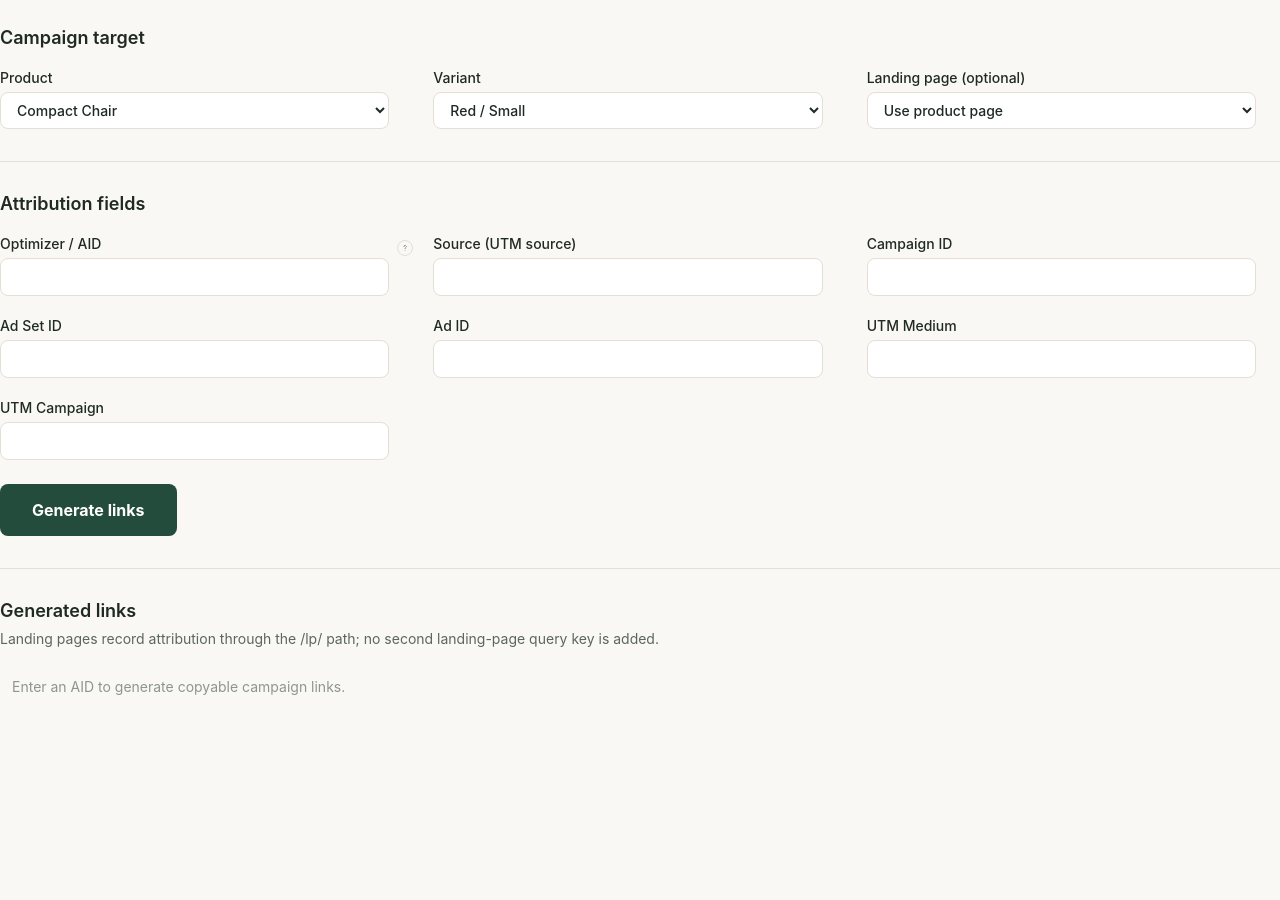
Test case: CampaignLinkBuilder › uses the selected real landing page as the campaign base
Select "Compact Chair for Condos · /lp/compact-chair-red" in the dropdown labelled "Landing page (optional)": {"x": 1061, "y": 110} [867, 92, 1256, 129]
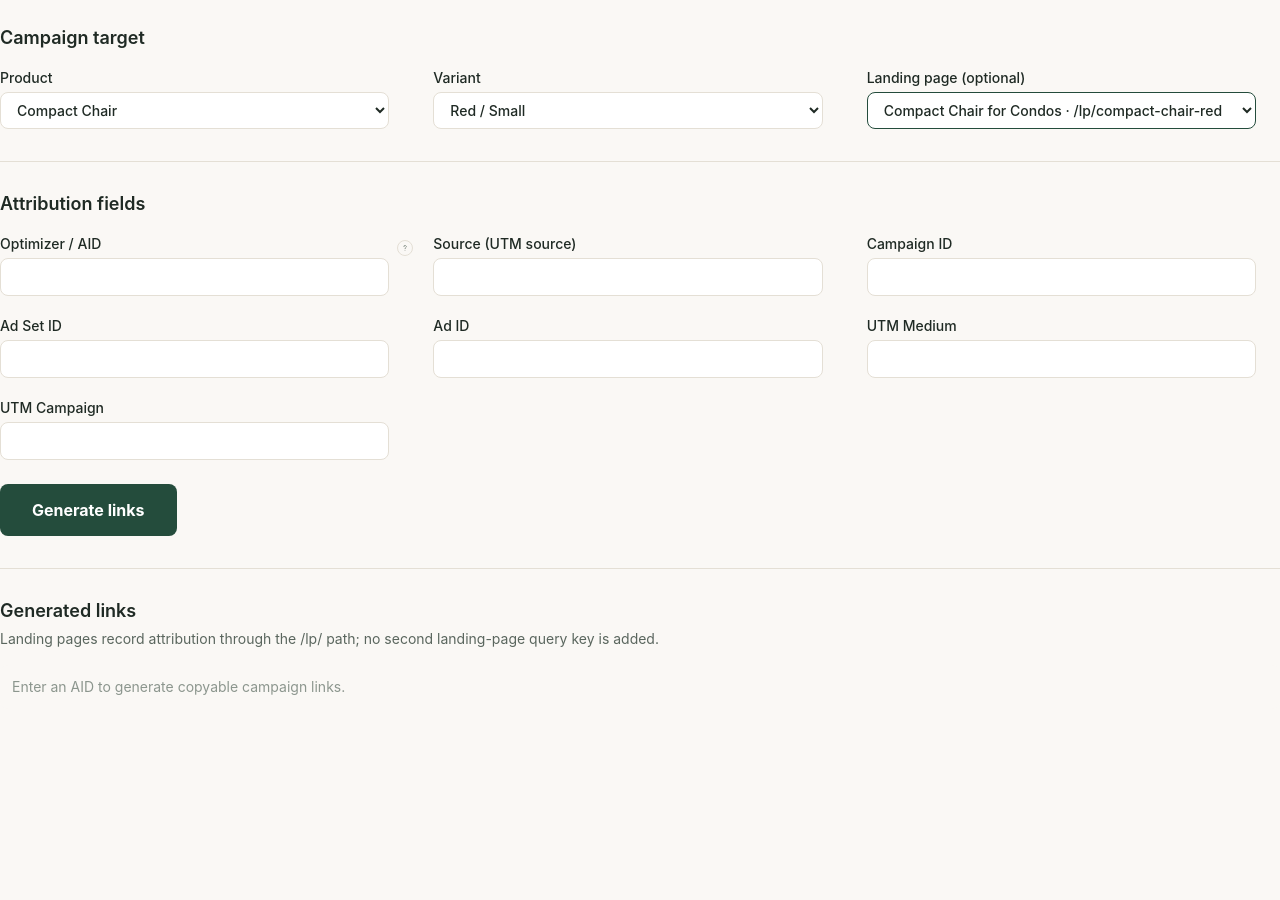
In the field labelled "Optimizer / AID": {"x": 195, "y": 277} [0, 258, 389, 296], type "optimizer-a"
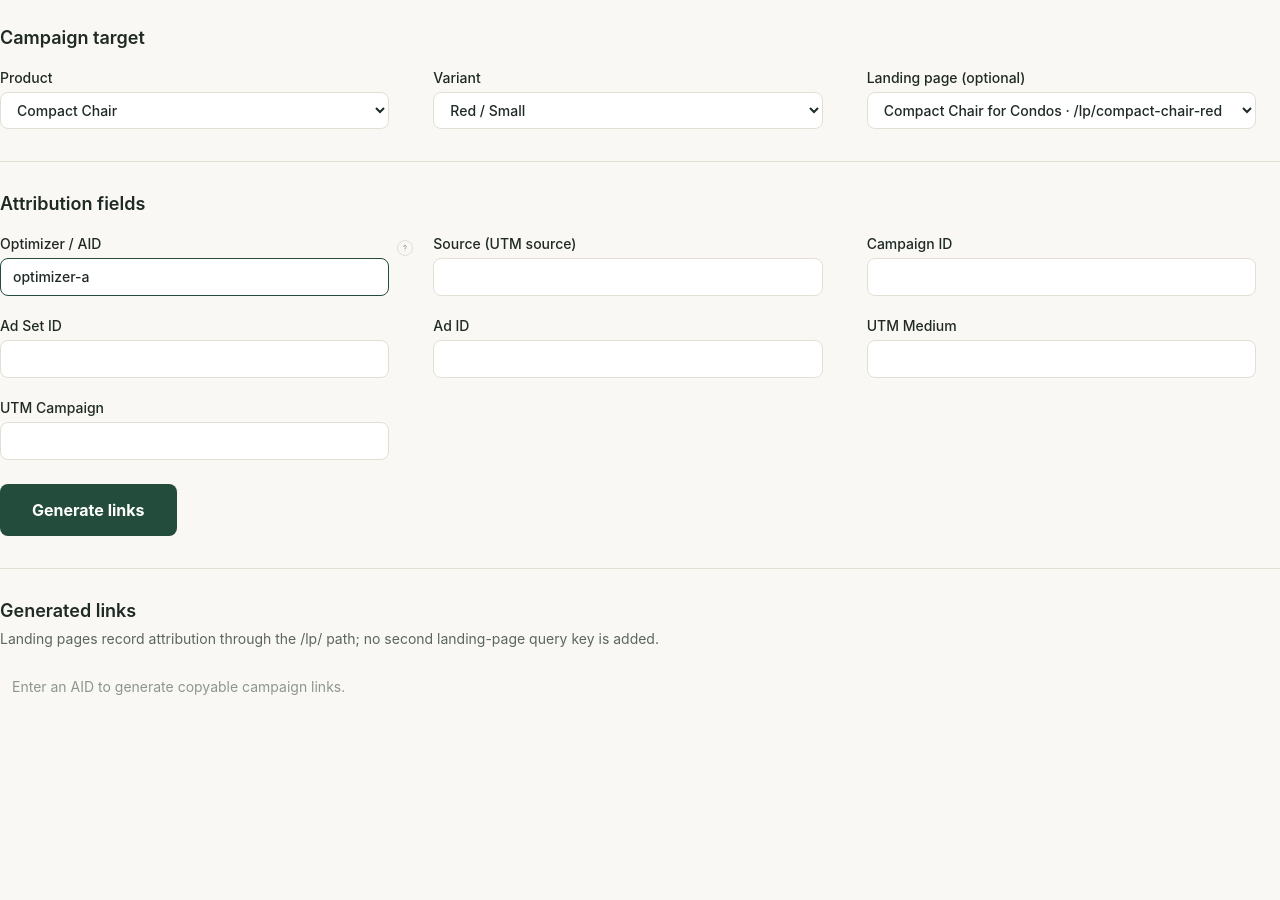
Click the button "Generate links": {"x": 88, "y": 510} [0, 484, 176, 536]
(page scrolled)
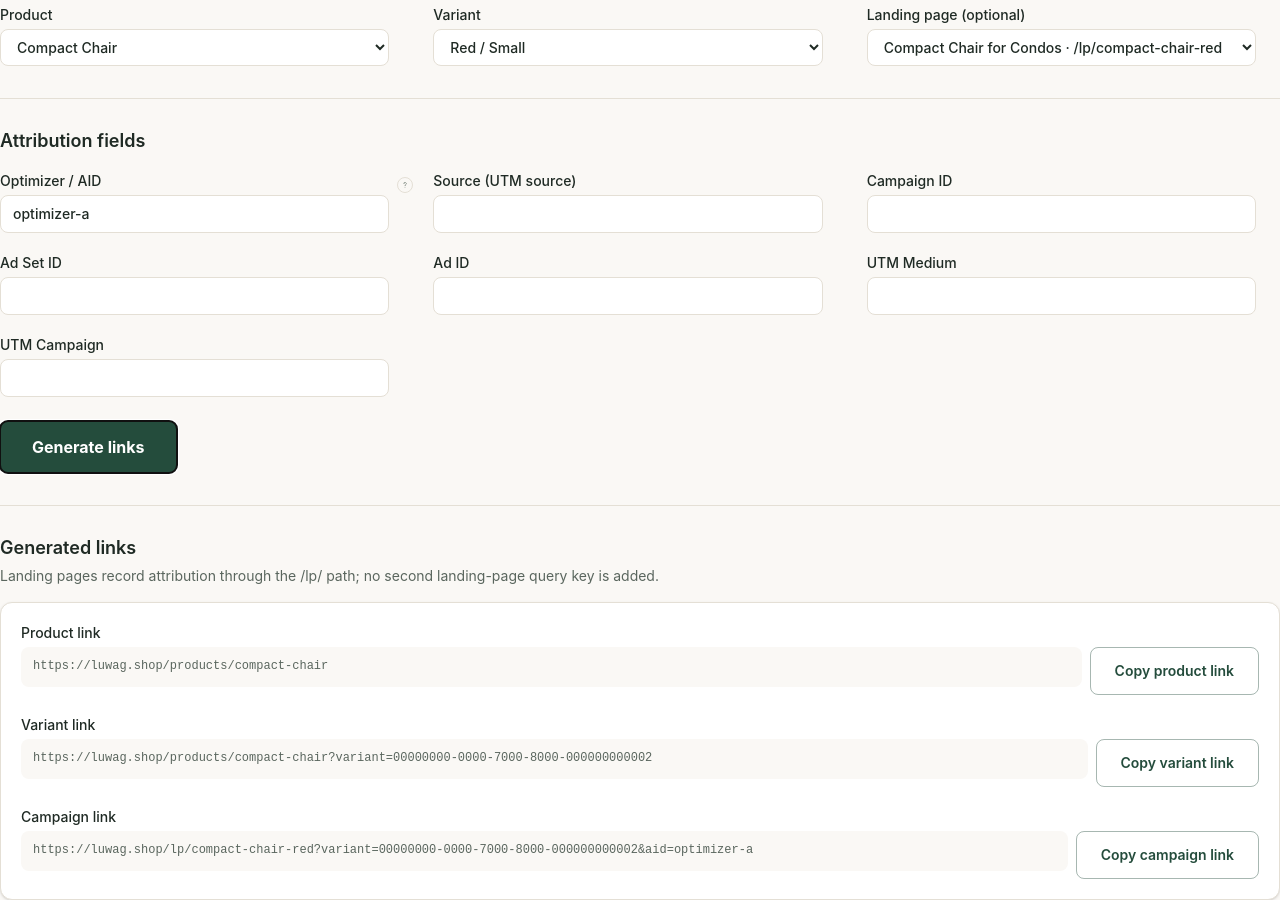
Expected: the text with test id "generated-campaign-url" does not show "landingPageId", [21, 831, 1068, 870]
Result: the text with test id "generated-campaign-url" shows "https://luwag.shop/lp/compact-chair-red?" at [33, 843, 753, 857]
